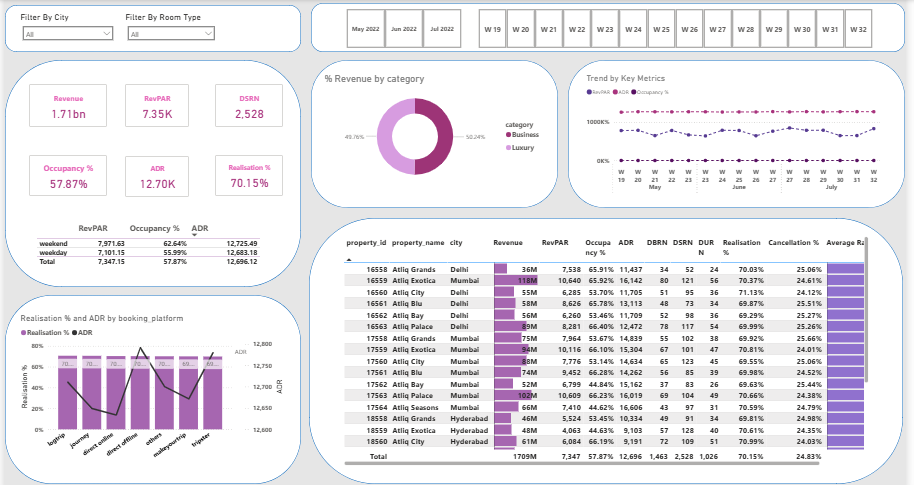

The dashboard page shown, as its layout file describes it:
{"tool":"powerbi","page":{"name":"Page 1","canvas":[1800,1100],"ordinal":0},"visuals":[{"type":"shape","box":[0,700,592,378],"z":0},{"type":"shape","box":[608,546,1188,532],"z":1000},{"type":"shape","box":[0,230,592,454],"z":2000},{"type":"shape","box":[1126,230,674,296],"z":3000},{"type":"shape","box":[612,230,494,296],"z":4000},{"type":"shape","box":[0,120,592,94],"z":5000},{"type":"shape","box":[612,116,1188,98],"z":6000},{"type":"tableEx","fields":{"Values":["dim_hotels.property_id","dim_hotels.property_name","dim_hotels.city","key_measures.Revenue","key_measures.RevPAR","key_measures.Occupancy %","key_measures.ADR","key_measures.DBRN","key_measures.DSRN","key_measures.DURN","key_measures.Realisation %","key_measures.Cancellation %"]},"box":[672,578,1060,468],"z":7000},{"type":"slicer","title":"Filter By City","fields":{"Values":["dim_hotels.city"]},"box":[26.7,133.3,200,66.7],"z":8000},{"type":"slicer","title":"Filter By Room Type","fields":{"Values":["dim_rooms.room_class"]},"box":[236.7,133.3,193.3,66.7],"z":9000},{"type":"slicer","fields":{"Values":["dim_date.mmm yy"]},"box":[658,122,278,90],"z":10000},{"type":"slicer","fields":{"Values":["dim_date.week no"]},"box":[922,122,836,90],"z":11000},{"type":"cardVisual","fields":{"Data":["key_measures.Revenue"]},"box":[44,274,164,94],"z":12000},{"type":"donutChart","title":"%  Revenue by category","fields":{"Category":["dim_hotels.category"],"Y":["key_measures.Occupancy %"]},"box":[634,256,450,232],"z":13000},{"type":"cardVisual","fields":{"Data":["key_measures.RevPAR"]},"box":[236,274,136,94],"z":14000},{"type":"cardVisual","fields":{"Data":["key_measures.DSRN"]},"box":[416,274,144,94],"z":15000},{"type":"cardVisual","fields":{"Data":["key_measures.Realisation %"]},"box":[416,416,144,90],"z":16000},{"type":"cardVisual","fields":{"Data":["key_measures.ADR"]},"box":[236,418,136,90],"z":17000},{"type":"cardVisual","fields":{"Data":["key_measures.Occupancy %"]},"box":[44,416,164,90],"z":18000},{"type":"lineStackedColumnComboChart","fields":{"Category":["fact_bookings.booking_platform"],"Y":["key_measures.Realisation %"],"Y2":["key_measures.ADR"]},"box":[26,736,534,310],"z":19000},{"type":"lineChart","title":"Trend by Key Metrics","fields":{"Category":["dim_date.mmm yy.Variation.Date Hierarchy.Month","dim_date.week no"],"Y":["key_measures.RevPAR","key_measures.ADR","key_measures.Occupancy %"]},"box":[1158,256,600,250],"z":20000},{"type":"tableEx","fields":{"Values":["dim_date.day_type","key_measures.RevPAR","key_measures.Occupancy %","key_measures.ADR"]},"box":[58,550,484,102],"z":21000}]}

Visuals, with their boxes on the page's 1800x1100 design canvas (x1, y1, x2, y2). These are canvas units, not pixel positions in the 914x485 screenshot, which may show the page scaled, cropped or inside an application window:
shape: (0,700,592,1078)
shape: (608,546,1796,1078)
shape: (0,230,592,684)
shape: (1126,230,1800,526)
shape: (612,230,1106,526)
shape: (0,120,592,214)
shape: (612,116,1800,214)
tableEx - dim_hotels.property_id x dim_hotels.property_name: (672,578,1732,1046)
"Filter By City" slicer: (27,133,227,200)
"Filter By Room Type" slicer: (237,133,430,200)
slicer - dim_date.mmm yy: (658,122,936,212)
slicer - dim_date.week no: (922,122,1758,212)
cardVisual - key_measures.Revenue: (44,274,208,368)
"%  Revenue by category" donutChart: (634,256,1084,488)
cardVisual - key_measures.RevPAR: (236,274,372,368)
cardVisual - key_measures.DSRN: (416,274,560,368)
cardVisual - key_measures.Realisation %: (416,416,560,506)
cardVisual - key_measures.ADR: (236,418,372,508)
cardVisual - key_measures.Occupancy %: (44,416,208,506)
lineStackedColumnComboChart - fact_bookings.booking_platform x key_measures.Realisation %: (26,736,560,1046)
"Trend by Key Metrics" lineChart: (1158,256,1758,506)
tableEx - dim_date.day_type x key_measures.RevPAR: (58,550,542,652)
